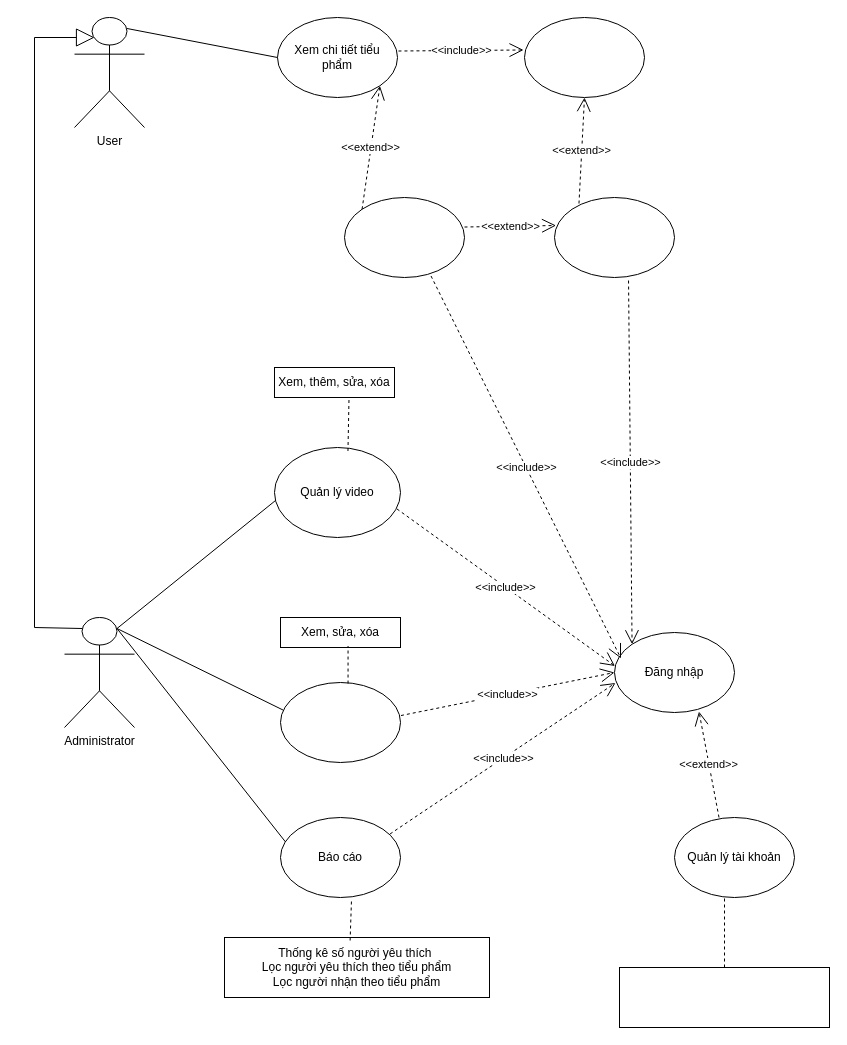
Some shapes in this 847 by 1045 pixel diagram are drawn without their labels. Each missing label, with the centre of its shape:
"like, unlike, share" goes at point (404, 237).
"Liệt kê video" goes at point (584, 57).
"Liệt kê video yêu thích" goes at point (614, 237).
"Quản lý User" goes at point (340, 722).
"Đăng ký, quên mật khẩu, đổi mật khẩu, Cập nhật tài khoản, đăng xuất." goes at point (724, 997).
